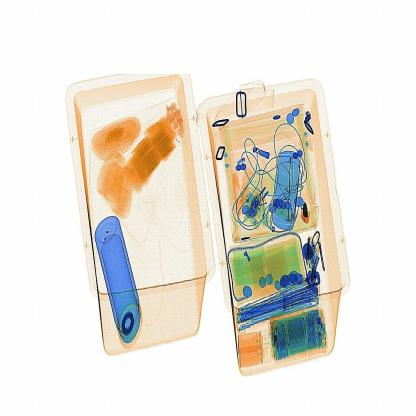wrench: (297, 194, 318, 226)
